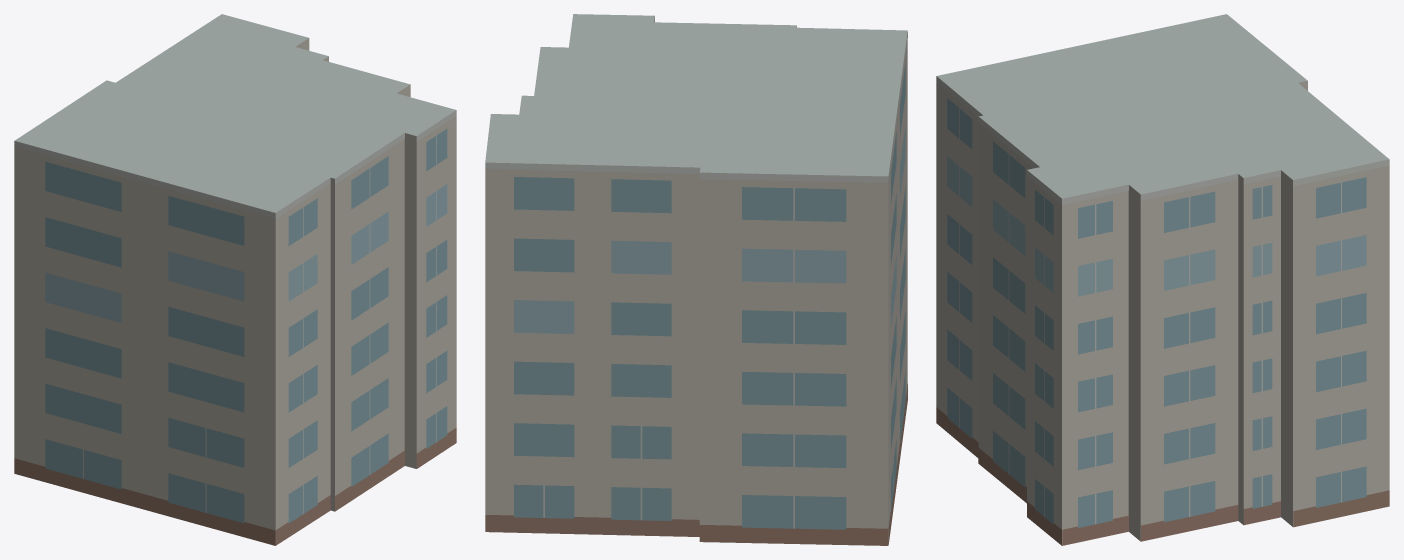
The model's file is survey-upis-32965659.glb.
The picture shows the model from 3 angles, left to right: view 1: azimuth 30°, elevation 25°; view 2: azimuth 150°, elevation 25°; view 3: azimuth 270°, elevation 25°; orthographic projection. The views are drawn at different scales.
Visible parts, largest first — view 1: survey-upis-32965659.tmp; view 2: survey-upis-32965659.tmp; view 3: survey-upis-32965659.tmp.
Boxes of the visible parts, x1,y1,x2,y2 form: survey-upis-32965659.tmp: [14, 14, 456, 545]; survey-upis-32965659.tmp: [485, 14, 907, 545]; survey-upis-32965659.tmp: [936, 14, 1389, 545].
Bounding box in the file's own units: 15.76 × 13.8 × 16.33.
